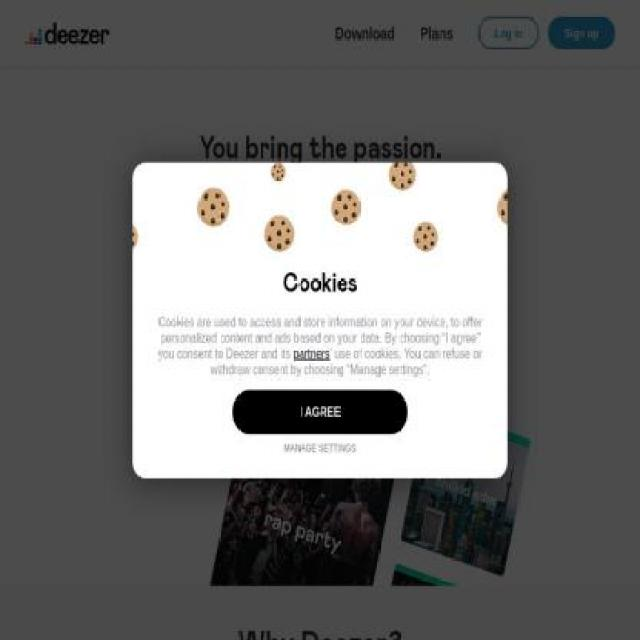button: (232, 390, 408, 435), (152, 434, 488, 455), (174, 259, 312, 303), (328, 259, 466, 303), (548, 17, 615, 49), (25, 21, 109, 45), (478, 17, 539, 49)
